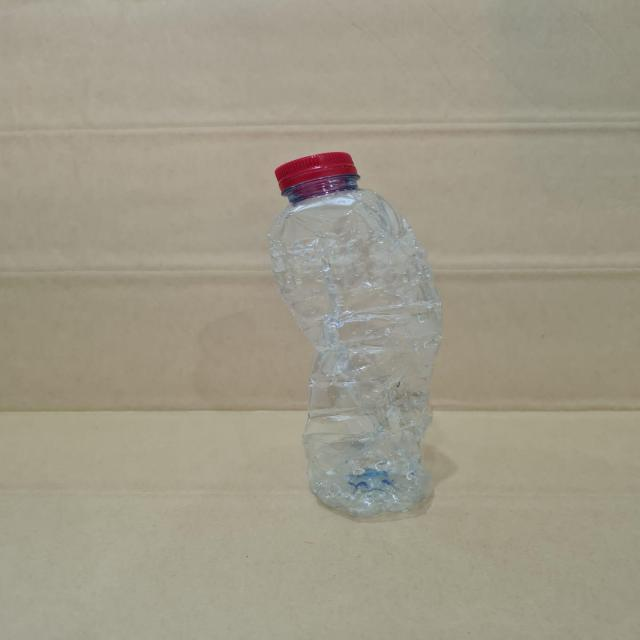bottle: (244, 148, 472, 552)
